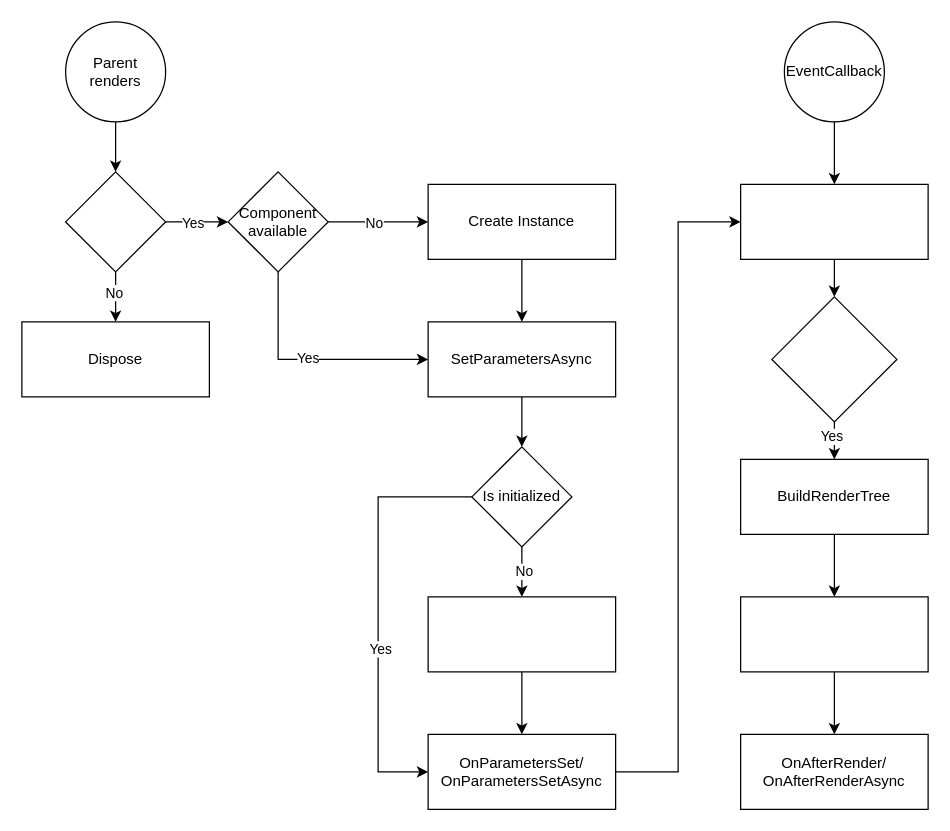
Some shapes in this 950 by 831 pixel diagram are drawn without their labels. Here are the shapes that lost their labels. From the top down, the centre of each, then its label:
At (115,221): "Component required".
At (833,221): "StateHasChanged".
At (834,359): "ShouldRender".
At (521,634): "OnInitialized/ OninitializedAsync".
At (833,634): "Render".
